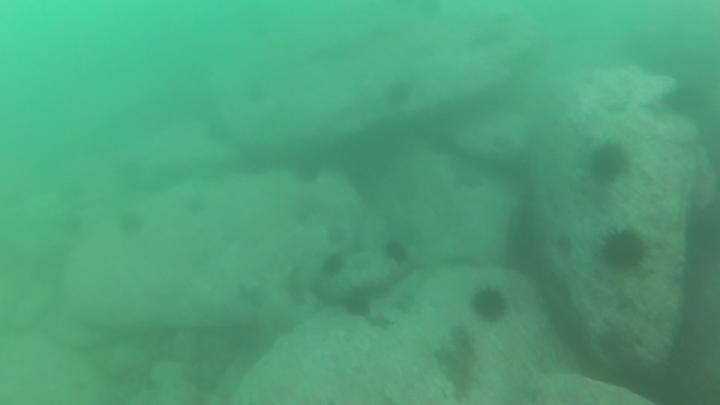echinus: (597, 225, 649, 274), (587, 139, 634, 185), (471, 284, 510, 326), (384, 81, 419, 111), (342, 292, 373, 320), (116, 210, 145, 239), (322, 253, 347, 279), (383, 242, 409, 266), (295, 164, 322, 187)
starfish: (448, 366, 476, 403), (433, 345, 462, 378), (448, 326, 475, 355), (363, 312, 397, 334), (324, 225, 351, 248)
